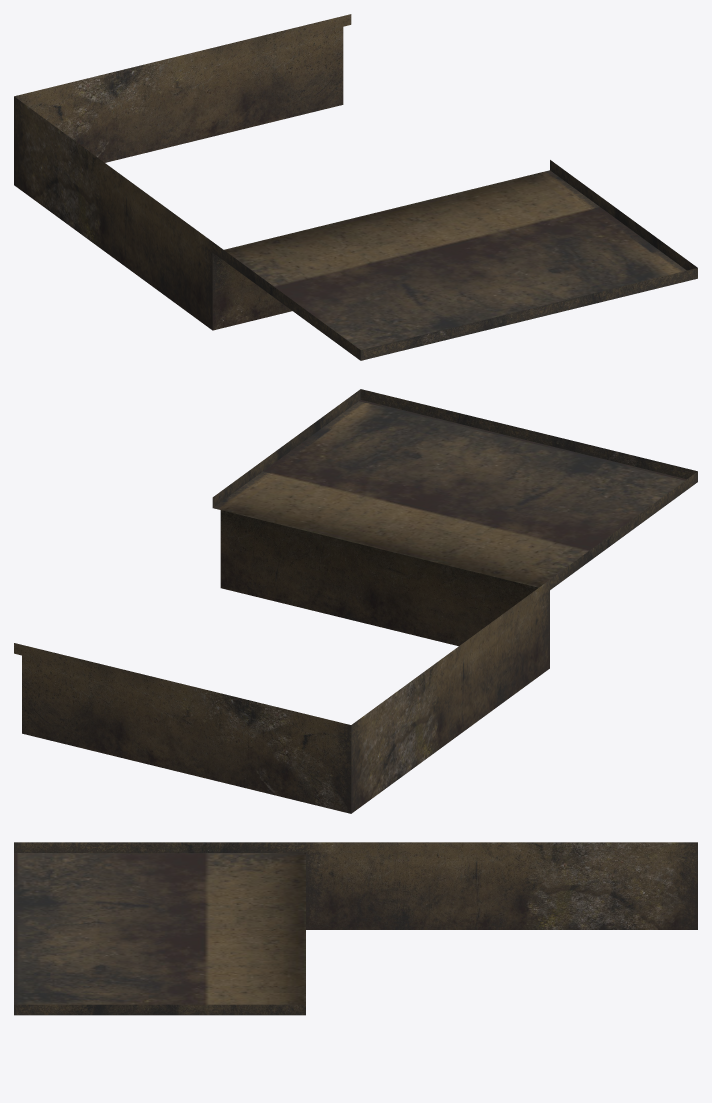
File: GroundBase.FBX
3 renders of one model, top to bottom at view 1: azimuth 30°, elevation 25°; view 2: azimuth 150°, elevation 25°; view 3: azimuth 270°, elevation 25°, orthographic.
Visible parts, largest first — view 1: GroundBase; view 2: GroundBase; view 3: GroundBase.
Part boxes in pixels (<box>): GroundBase: <box>14,14,697,360</box>; GroundBase: <box>14,389,697,813</box>; GroundBase: <box>14,842,697,1015</box>.
Bounding box in the file's own units: 2109 × 531 × 3756.
